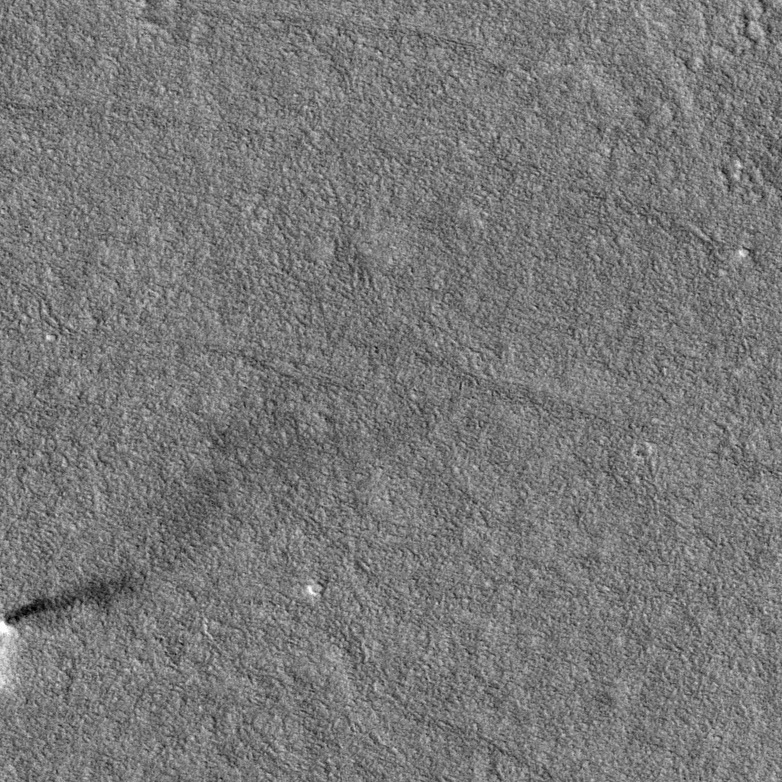dust_devil: (1, 569, 146, 638)
